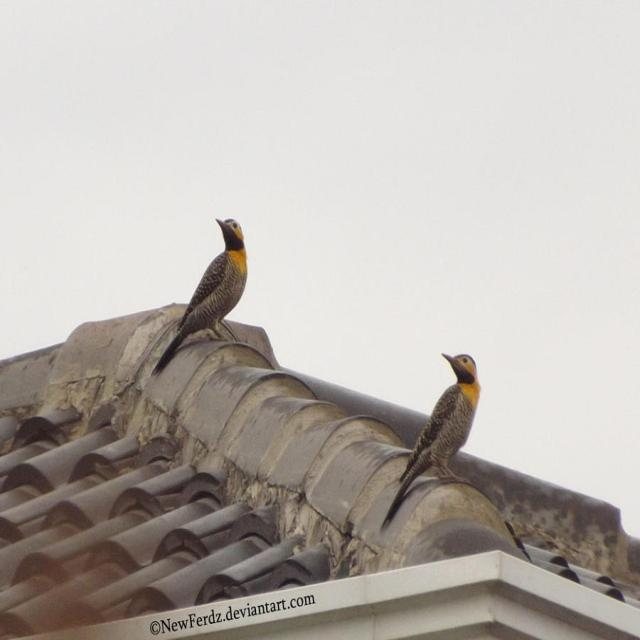bird: (378, 350, 482, 533), (150, 215, 250, 379)
